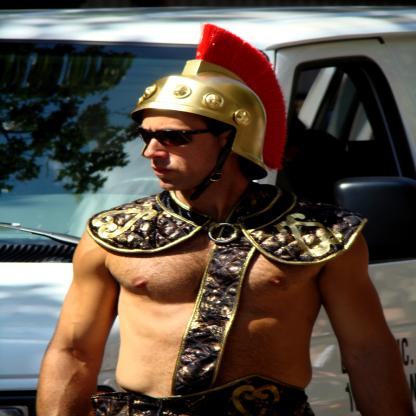Helmet: (135, 53, 279, 199)
